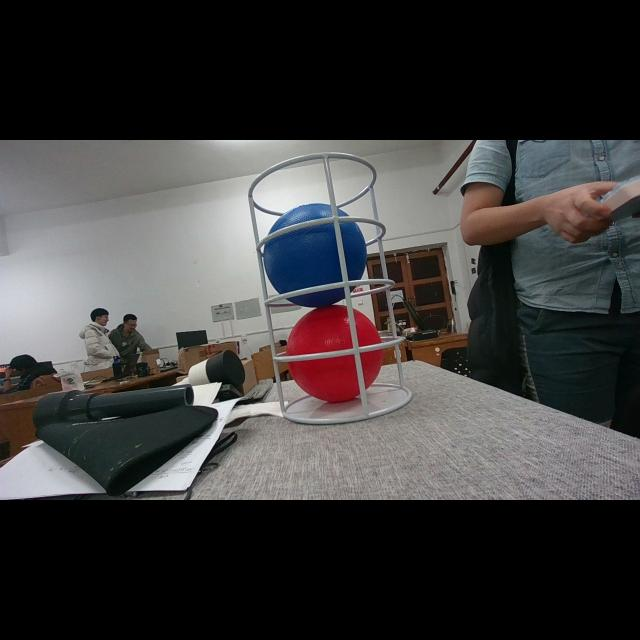B: (264, 203, 366, 307)
R: (286, 304, 384, 402)
S: (248, 152, 414, 424)
